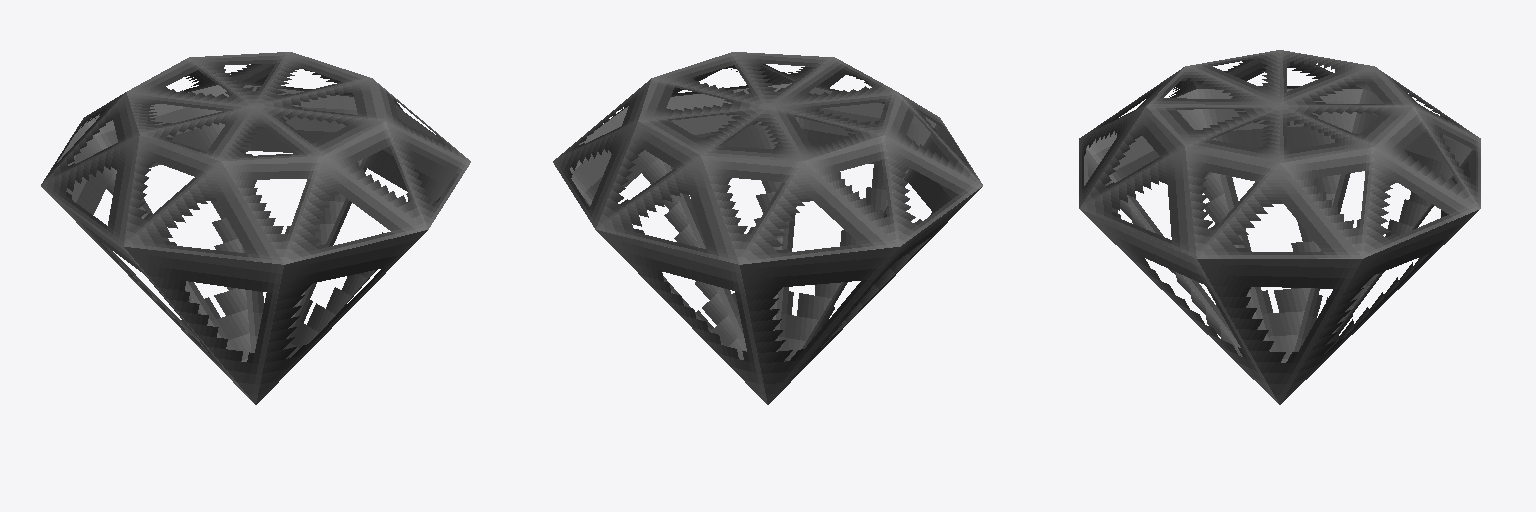
The picture shows the model from 3 angles: view 1: azimuth 30°, elevation 25°; view 2: azimuth 150°, elevation 25°; view 3: azimuth 270°, elevation 25°; orthographic projection.
Parts seen in each view (by area): view 1: Gem; view 2: Gem; view 3: Gem.
Boxes of the visible parts, x1=… form: Gem: x1=41, y1=52, x2=470, y2=404; Gem: x1=553, y1=52, x2=982, y2=404; Gem: x1=1079, y1=50, x2=1480, y2=404.
Bounding box in the file's own units: 48 × 39.41 × 48.
Materials: 1 (1 with a texture image).